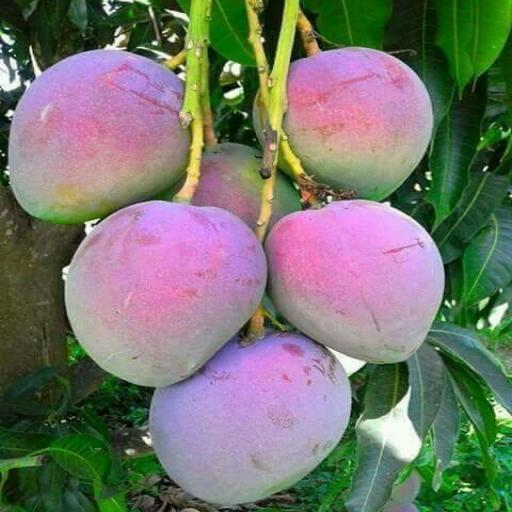mango: (52, 202, 274, 386), (143, 328, 357, 509), (2, 48, 215, 224), (269, 201, 449, 359), (260, 45, 435, 201)
